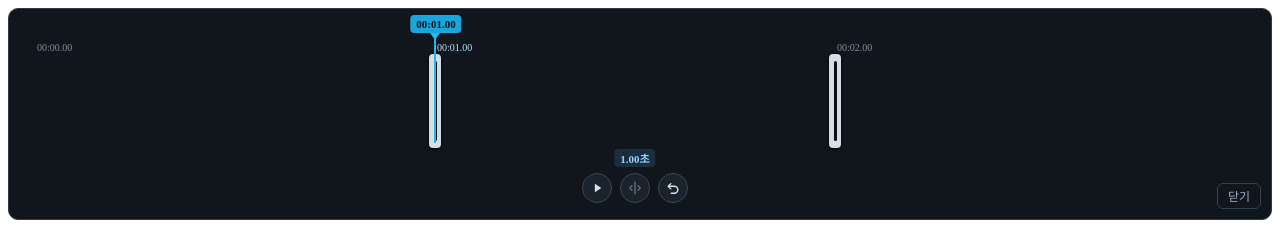
it: word timing editor › plays the selected chip once from the start trim on Space, then parks the play line on the start trim
Press the mouse on the element with class "word-timing-track": (640, 112) [19,15,1261,209]
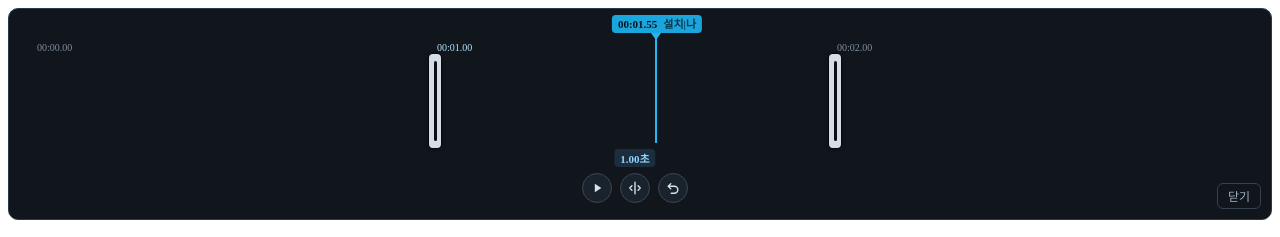
Type keys " "
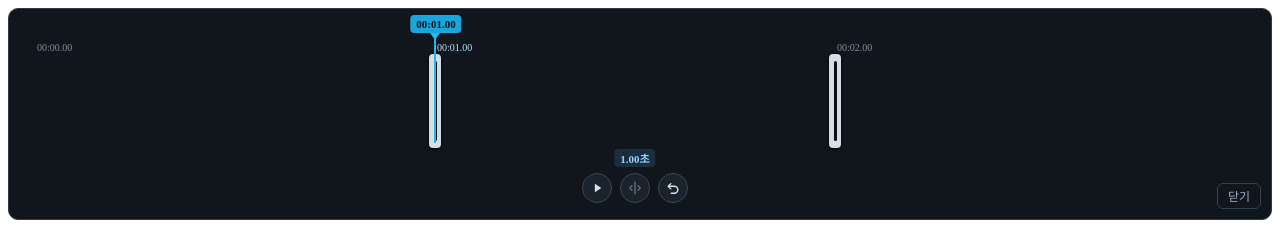
Expected: the button named "재생" is shown, [582,173,612,203]
Type keys " "
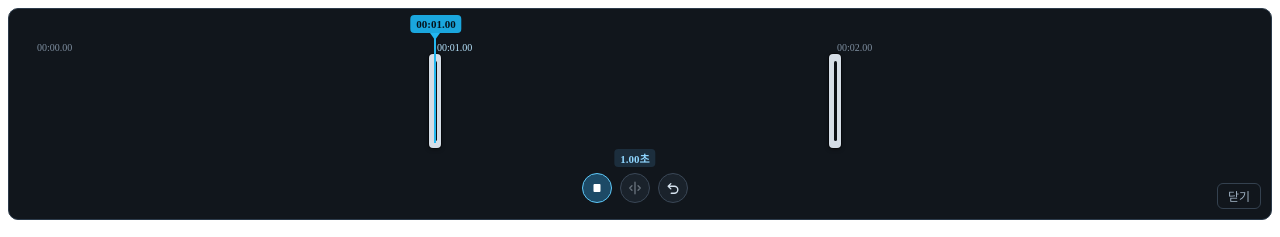
Type keys " "
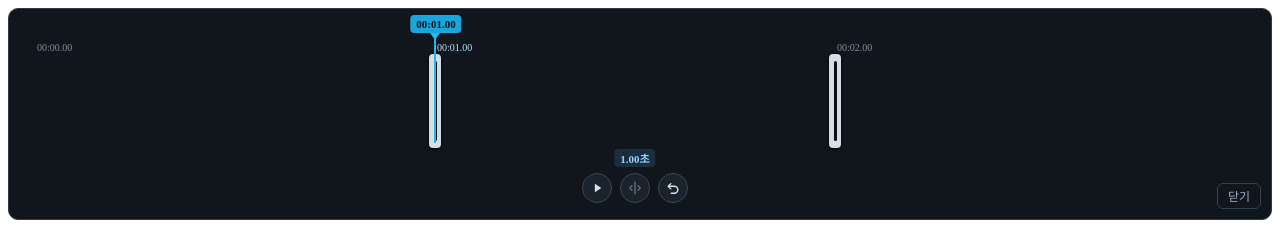
Now the button named "재생" is shown, box [582,173,612,203]
